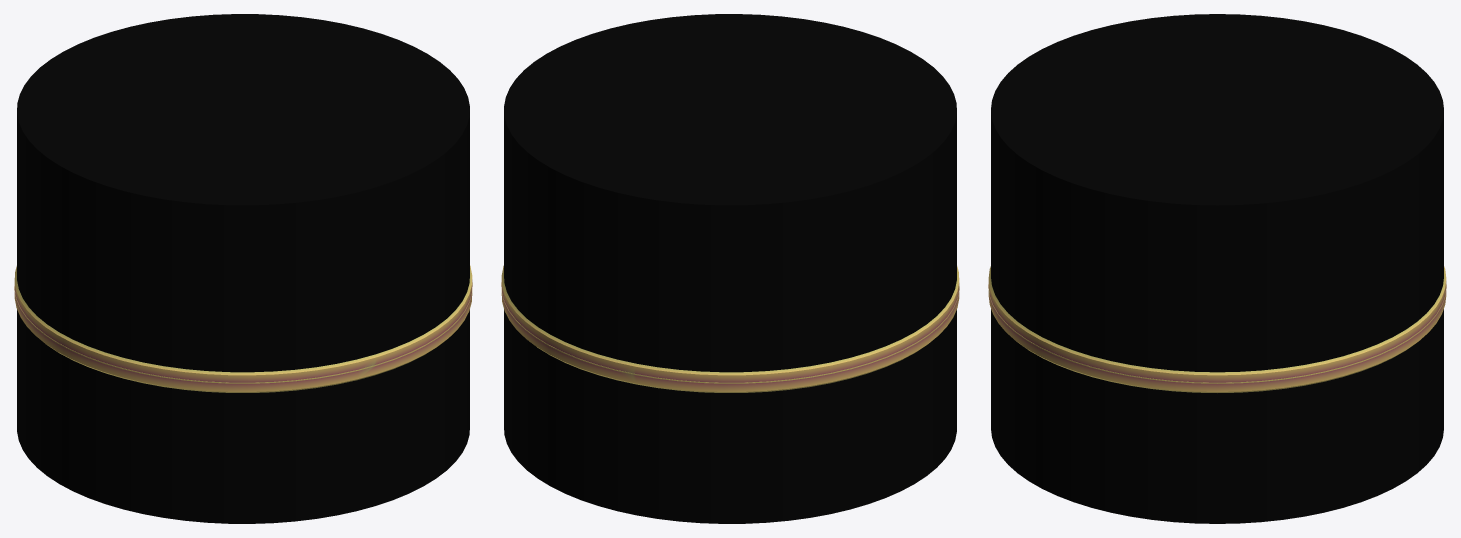
3 views of the same model, side by side, from view 1: azimuth 30°, elevation 25°; view 2: azimuth 150°, elevation 25°; view 3: azimuth 270°, elevation 25° (orthographic).
Visible parts, largest first — view 1: body, gold_band; view 2: body, gold_band; view 3: body, gold_band.
Part boxes in pixels (left/top/right/bottom): body: left=17, top=14, right=469, bottom=523; gold_band: left=14, top=265, right=472, bottom=392; body: left=504, top=14, right=956, bottom=523; gold_band: left=501, top=265, right=959, bottom=392; body: left=991, top=14, right=1443, bottom=523; gold_band: left=988, top=266, right=1446, bottom=392.
Bounding box in the file's own units: 0.797 × 0.611 × 0.797.
